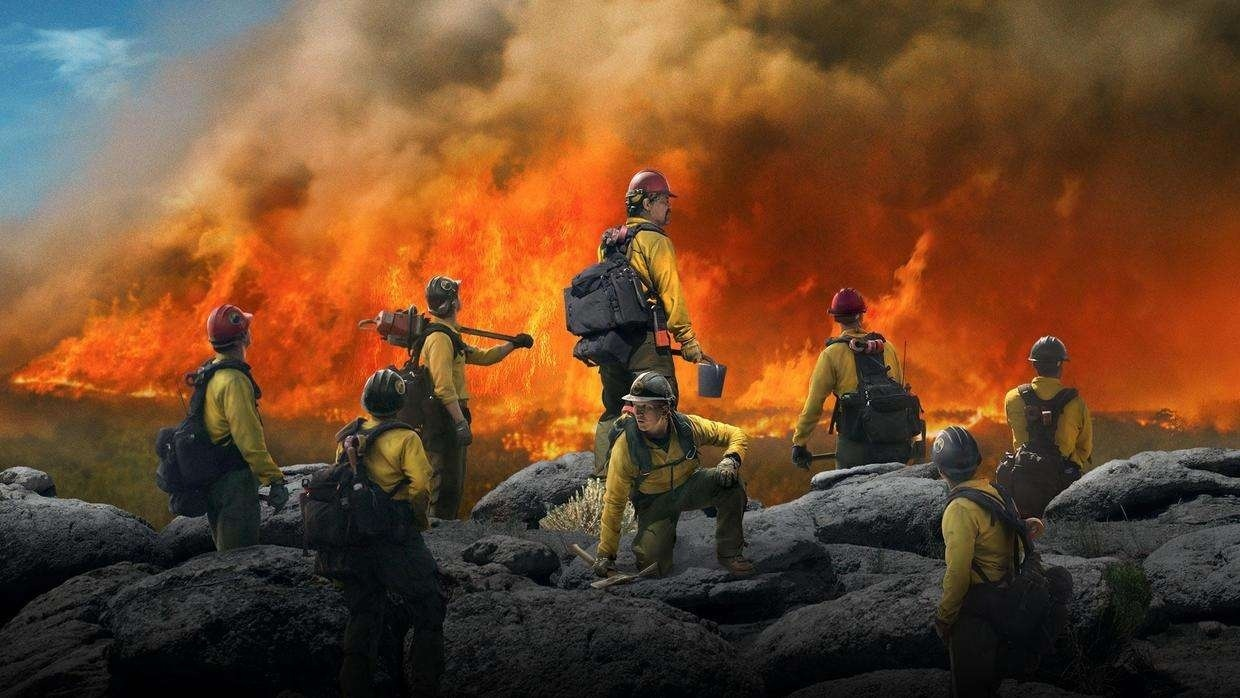fire: (97, 139, 1120, 470)
